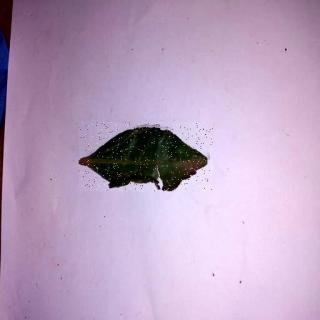Bird Eye Spot: (80, 123, 214, 192)
